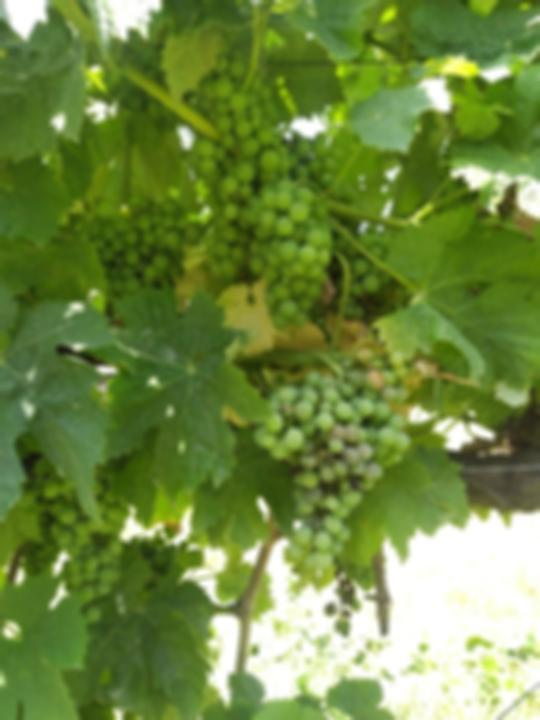grape: (190, 47, 341, 331), (252, 353, 409, 570), (21, 473, 134, 625), (86, 201, 197, 320)
